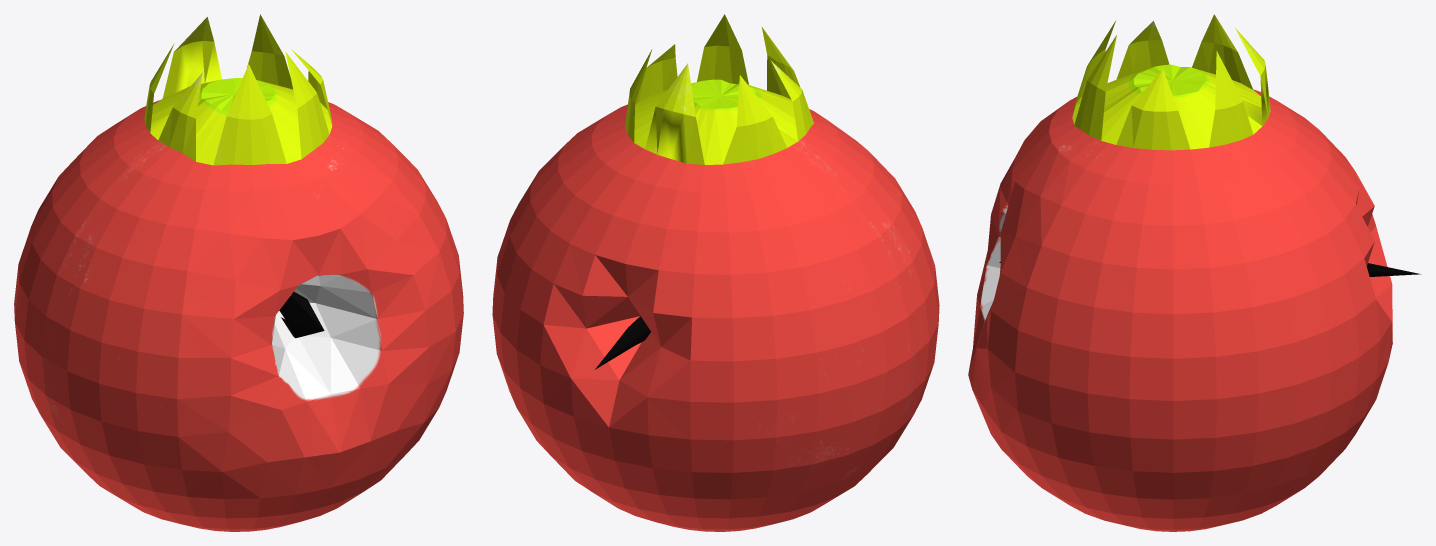
File: tometo.obj
3 renders of one model, left to right at view 1: azimuth 30°, elevation 25°; view 2: azimuth 150°, elevation 25°; view 3: azimuth 270°, elevation 25°, orthographic. The views are drawn at different scales.
Visible parts, largest first — view 1: 球.001; view 2: 球.001; view 3: 球.001.
Part boxes in pixels (left/top/right/bottom): 球.001: left=14, top=14, right=463, bottom=531; 球.001: left=492, top=14, right=939, bottom=531; 球.001: left=968, top=14, right=1420, bottom=531.
Bounding box in the file's own units: 0.4399 × 0.5076 × 0.4299.
1 material, 1 textured.
